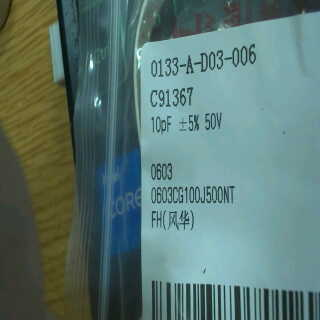10pF: (148, 109, 175, 137)
